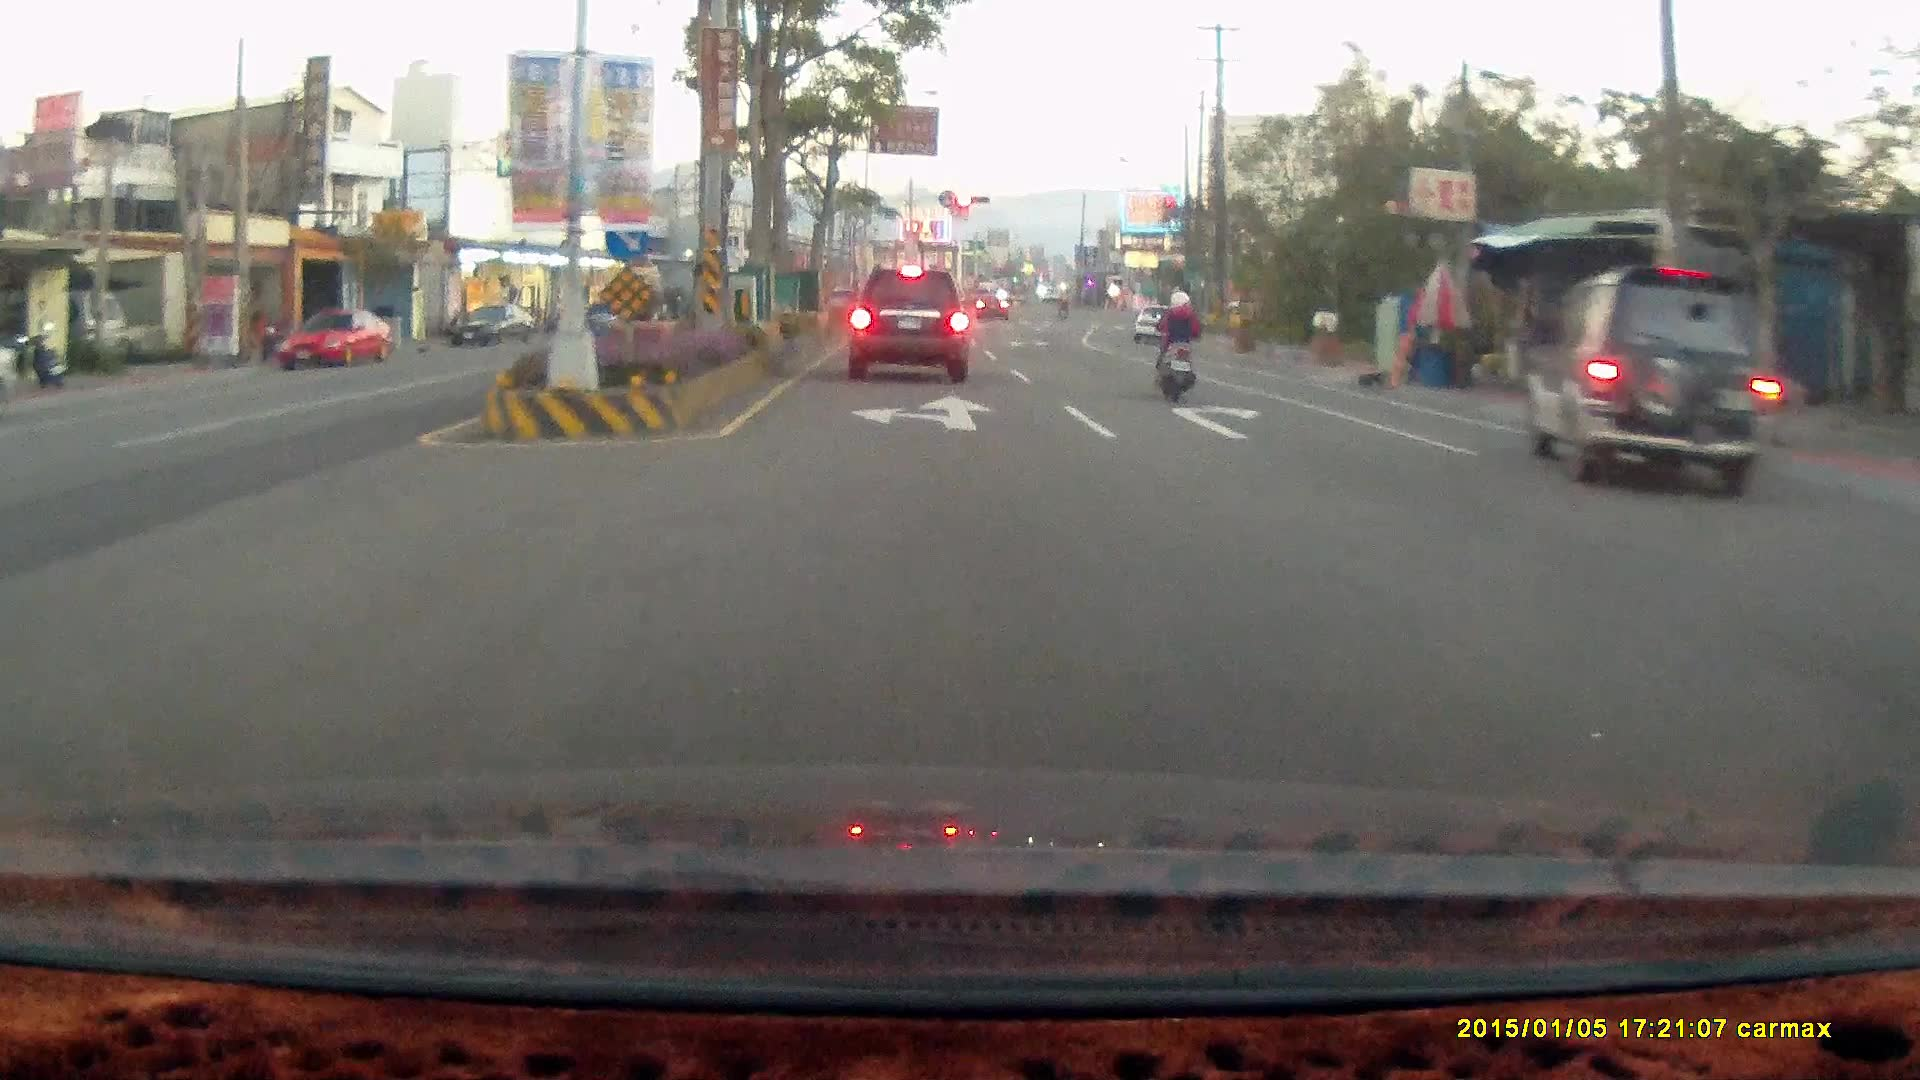rider: (1153, 289, 1201, 398)
vehicle: (1520, 262, 1782, 498), (1527, 265, 1785, 493), (846, 266, 967, 382), (1896, 493, 1920, 836), (278, 313, 401, 379), (275, 307, 394, 371), (1883, 528, 1920, 690), (456, 303, 540, 354), (1134, 305, 1190, 345)
